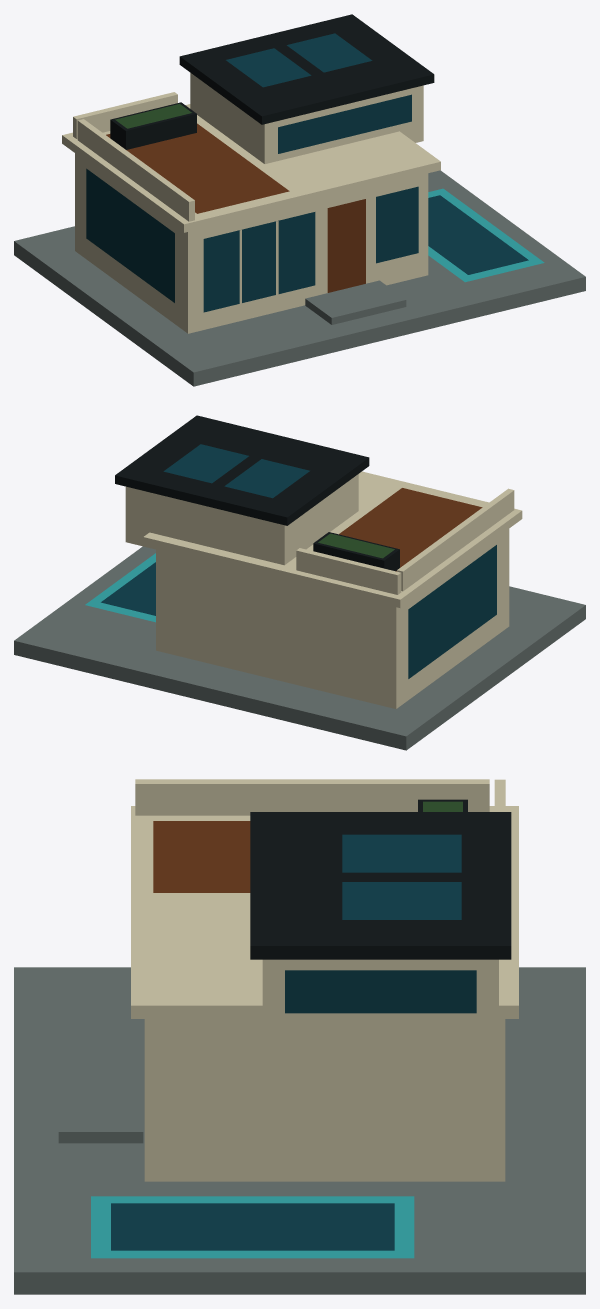
File: house.obj
3 views of the same model, one above another, from view 1: azimuth 30°, elevation 25°; view 2: azimuth 150°, elevation 25°; view 3: azimuth 270°, elevation 25° (orthographic). The views are drawn at different scales.
Visible parts, largest first — view 1: casa_moderna_lowpoly; view 2: casa_moderna_lowpoly; view 3: casa_moderna_lowpoly.
Part boxes in pixels (box(x1,y1,x2,y2)): casa_moderna_lowpoly: box(14, 14, 585, 386); casa_moderna_lowpoly: box(14, 415, 585, 750); casa_moderna_lowpoly: box(14, 779, 585, 1294).
Bounding box in the file's own units: 5.8 × 2.57 × 4.6.
